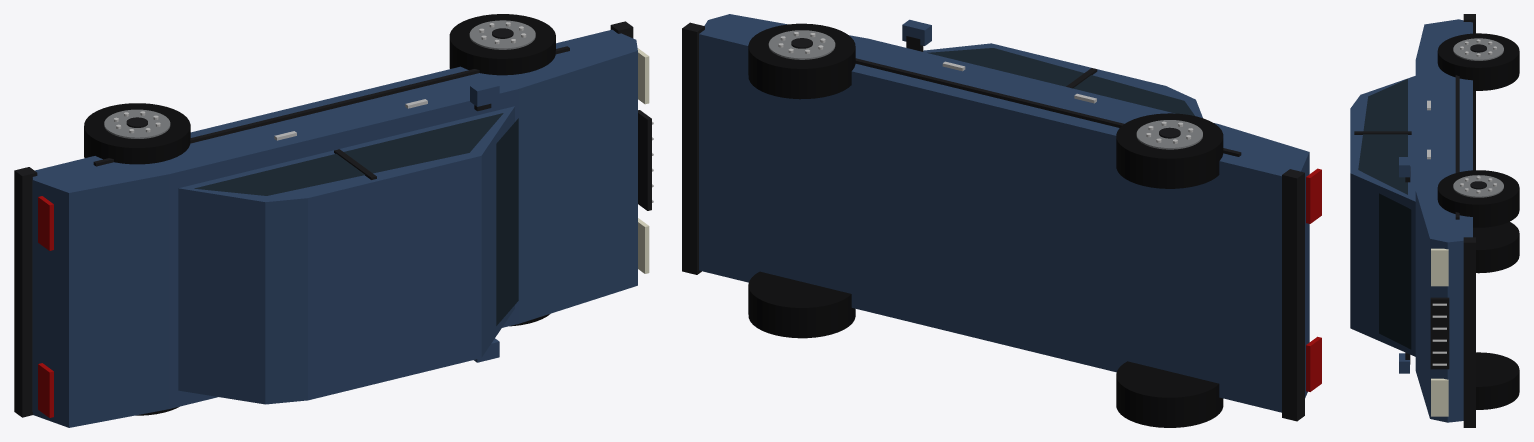
The model's file is car.obj.
3 views of the same model, side by side, from view 1: azimuth 30°, elevation 25°; view 2: azimuth 150°, elevation 25°; view 3: azimuth 270°, elevation 25° (orthographic). The views are drawn at different scales.
Visible parts, largest first — view 1: Body, Cabin, Tire, Side_window, Rear_bumper, Windshield, Wheel_hub, Body_trim, Rear_lamp, Front_grille, Headlamp, Mirror; view 2: Body, Tire, Rear_bumper, Side_window, Front_bumper, Wheel_hub, Cabin, Body_trim, Rear_lamp; view 3: Body, Tire, Cabin, Windshield, Side_window, Front_bumper, Wheel_hub, Headlamp, Front_grille, Body_trim, Mirror, Rear_bumper (+4 smaller).
Part boxes in pixels (x1,y1,x2,y2): Body: (32,29,637,427); Cabin: (178,106,514,404); Tire: (84,14,555,415); Side_window: (194,113,503,195); Rear_bumper: (14,167,37,417); Windshield: (496,118,518,325); Wheel_hub: (104,20,535,138); Body_trim: (93,46,569,166); Rear_lamp: (38,196,53,417); Front_grille: (638,110,651,210); Headlamp: (637,48,649,273); Mirror: (470,80,499,362); Body: (699,14,1309,412); Tire: (748,23,1223,427); Rear_bumper: (1282,169,1304,421); Side_window: (927,48,1194,115); Front_bumper: (682,22,704,274); Wheel_hub: (768,30,1202,149); Cabin: (923,43,1202,117); Body_trim: (855,58,1241,156); Rear_lamp: (1306,168,1321,391); Body: (1415,19,1472,422); Tire: (1437,33,1519,409); Cabin: (1350,76,1415,356); Windshield: (1379,193,1411,349); Side_window: (1358,79,1407,194); Front_bumper: (1463,237,1475,427); Wheel_hub: (1453,38,1503,197); Headlamp: (1431,248,1448,416); Front_grille: (1430,297,1449,369); Body_trim: (1455,75,1459,219); Mirror: (1399,157,1409,373); Rear_bumper: (1463,14,1475,170).
Bounding box in the file's own units: 4.9 × 2.12 × 1.53.
